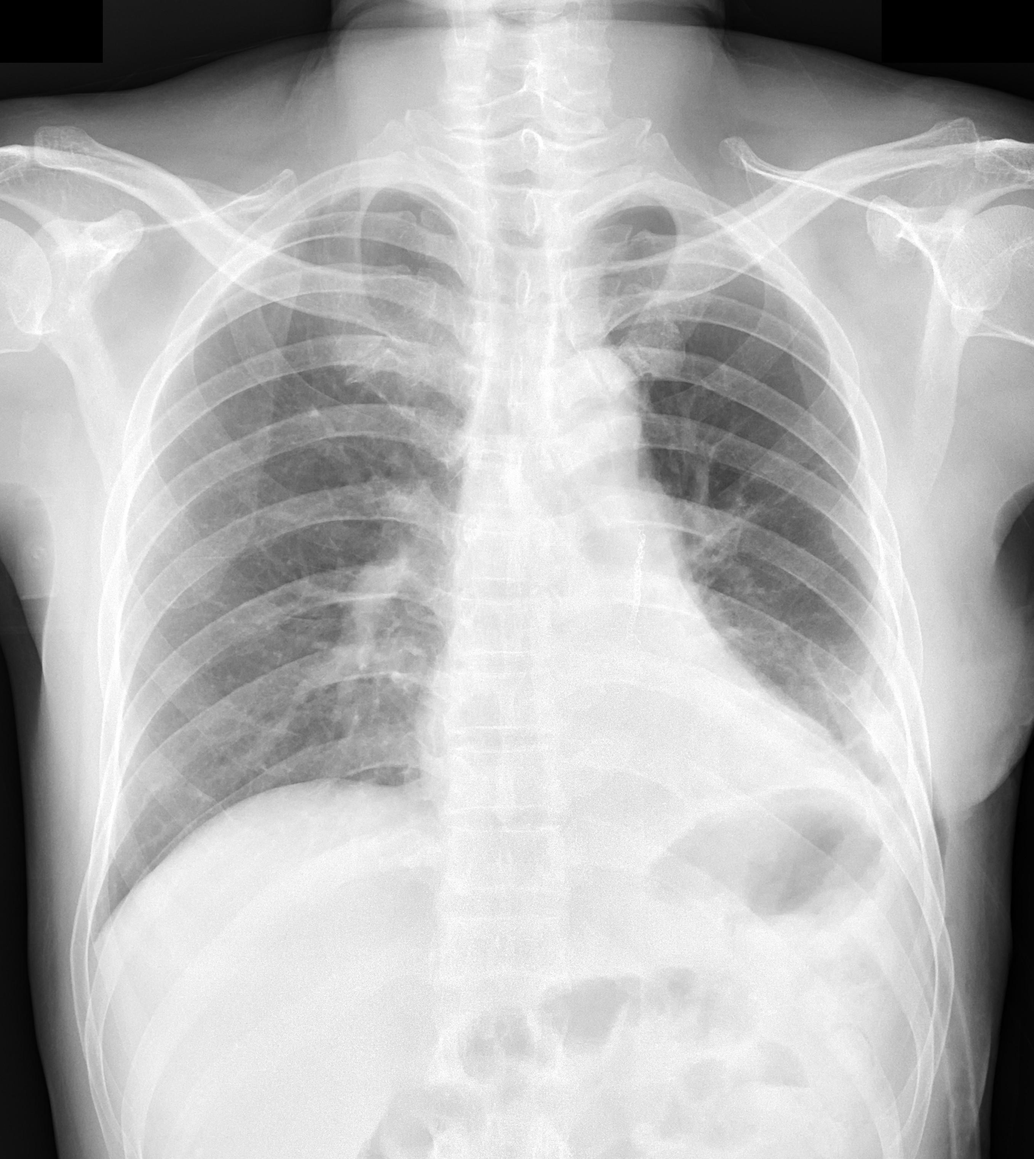Pleural thickening: (829, 523, 916, 836)
